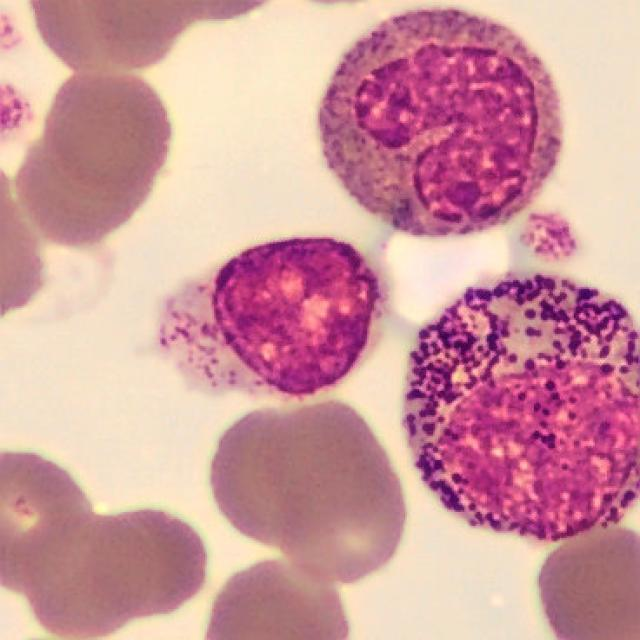Bastonete: (317, 9, 562, 239)
Promielocito: (402, 275, 640, 545)
